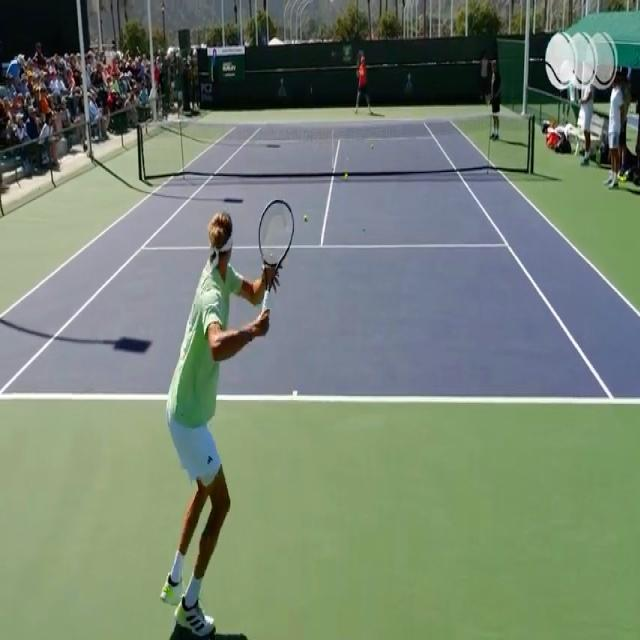forehand-ready: (153, 206, 295, 635)
